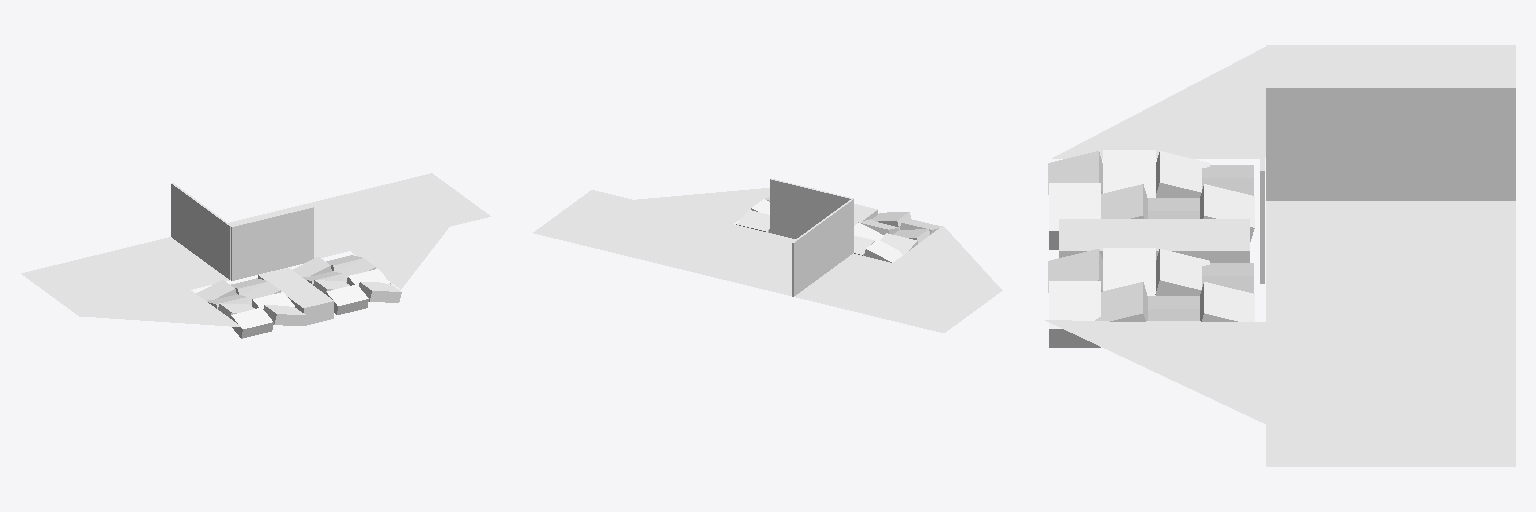
URDF robot description (chair):
<robot name="chair">
  <link name="base_link">
    <visual>
      <origin xyz="0 0 0" rpy="0 0 0" />
      <geometry>
        <mesh filename="package://hpp-rbprm-corba/meshes/slalom_debris.stl"/>
      </geometry>
      <material name="white">
        <color rgba="1 1 1 1"/>
      </material>
    </visual>
    <collision>
      <origin xyz="0 0 0" rpy="0 0 0" />
      <geometry>
        <mesh filename="package://hpp-rbprm-corba/meshes/slalom_debris.stl"/>
      </geometry>
    </collision>
  </link>
</robot>

--- Facts derived from the render (not from the file) ---
3 views of the same robot in one strip: view 1: azimuth 30°, elevation 25°; view 2: azimuth 150°, elevation 25°; view 3: azimuth 270°, elevation 25° (orthographic).
Robot: chair — 1 links, 0 joints (none); root link base_link; default pose: every joint at zero.
Visible links, largest first — view 1: base_link; view 2: base_link; view 3: base_link.
Link boxes in pixels (x1,y1,x2,y2): base_link: [21, 173, 490, 338]; base_link: [533, 178, 1002, 332]; base_link: [1045, 45, 1515, 466].
Bounding box of the posed robot: 4 × 1.89 × 0.6471 m (x, y, z).
Meshes: 1 distinct files referenced, 1 mesh visuals loaded (1 binary STL).